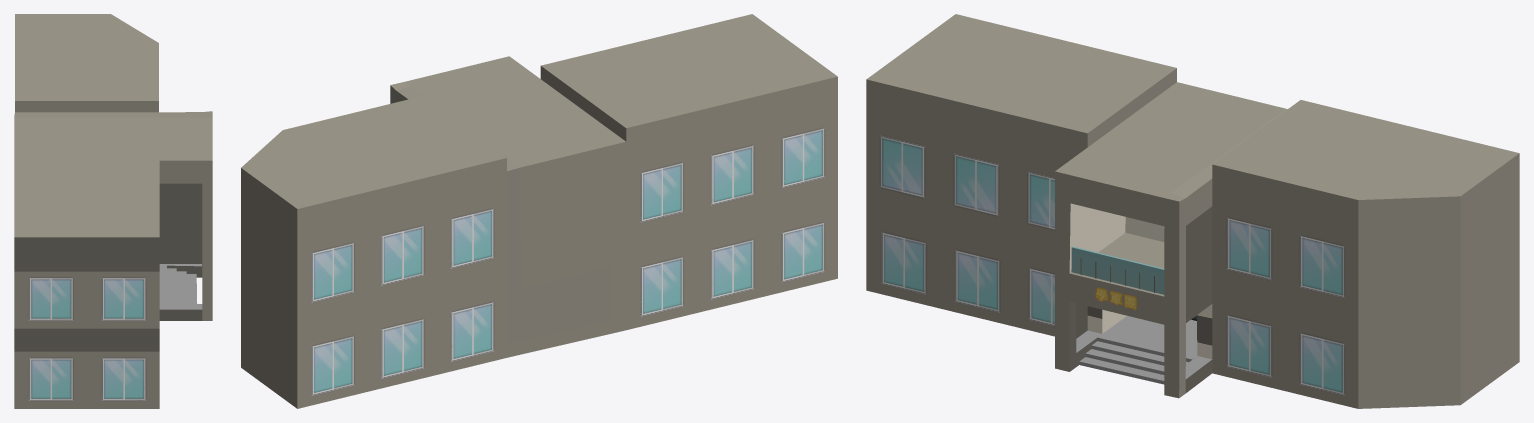
File: building_rotc.fbx
3 renders of one model, left to right at view 1: azimuth 30°, elevation 25°; view 2: azimuth 150°, elevation 25°; view 3: azimuth 270°, elevation 25°, orthographic. The views are drawn at different scales.
Visible parts, largest first — view 1: building_rotc; view 2: building_rotc; view 3: building_rotc.
Boxes of the visible parts, left/top/right/bottom form: building_rotc: left=14, top=14, right=212, bottom=408; building_rotc: left=241, top=14, right=837, bottom=408; building_rotc: left=866, top=14, right=1519, bottom=408.
Size of the model in its own units: 3.13 by 1.67 by 4.68.
1 material, 1 textured.
